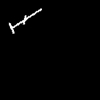double_crochet: (9, 9, 41, 32)
